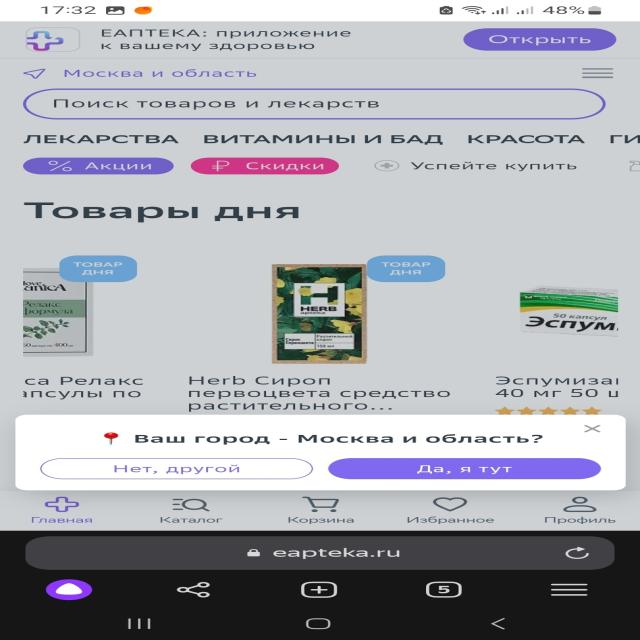button: (41, 457, 312, 480), (327, 457, 601, 479), (463, 28, 617, 51), (575, 422, 608, 434)
site: (17, 417, 624, 490), (0, 23, 639, 58)
